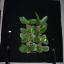leaf: (18, 44, 28, 53), (19, 16, 28, 24), (34, 12, 40, 23), (40, 16, 48, 24), (39, 26, 47, 34), (40, 46, 50, 52), (20, 33, 28, 40), (28, 34, 36, 41), (29, 27, 37, 33), (29, 44, 35, 51), (40, 36, 47, 42), (20, 28, 28, 33), (20, 38, 28, 43), (34, 37, 40, 43), (41, 40, 49, 44), (33, 30, 39, 35), (28, 19, 32, 24), (37, 46, 40, 52), (27, 38, 29, 42)
